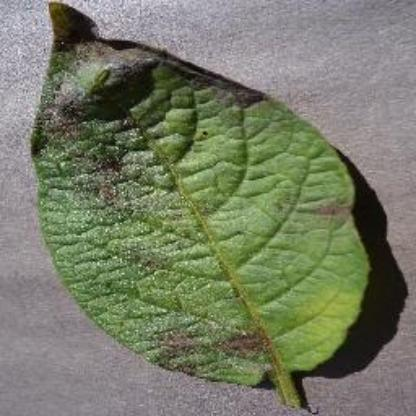Late-Blight: (32, 1, 378, 399)
